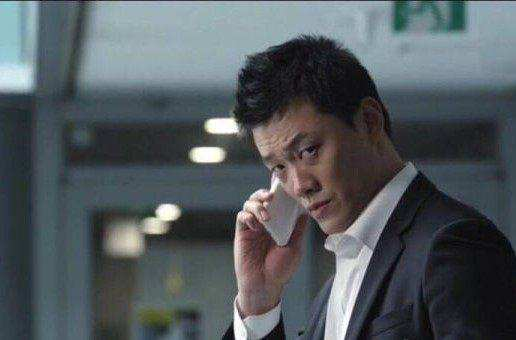phone: (250, 174, 311, 247)
talk: (238, 123, 354, 295)
